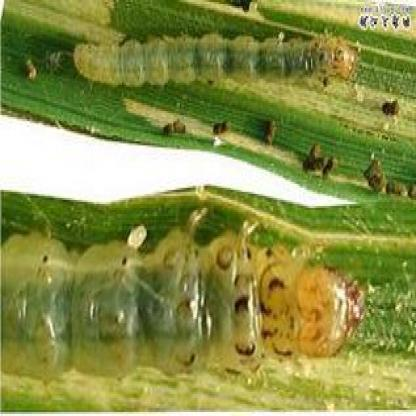leaf-folder: (8, 186, 377, 404), (67, 20, 355, 110)
